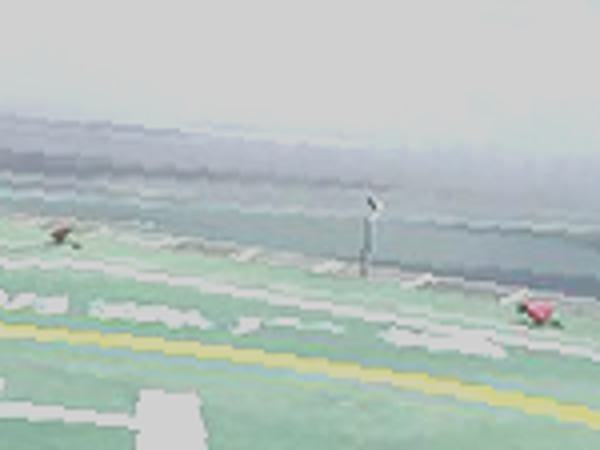Apron: (1, 301, 600, 450)
